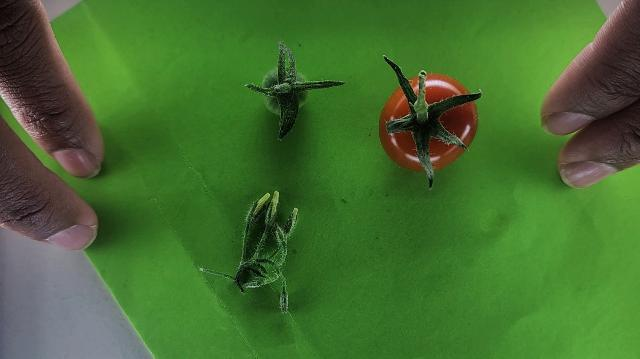Flower Bud: (280, 280, 289, 314), (290, 208, 298, 229)
Fruit Maturation: (261, 68, 308, 115)
Fully Grown: (378, 72, 478, 173)
